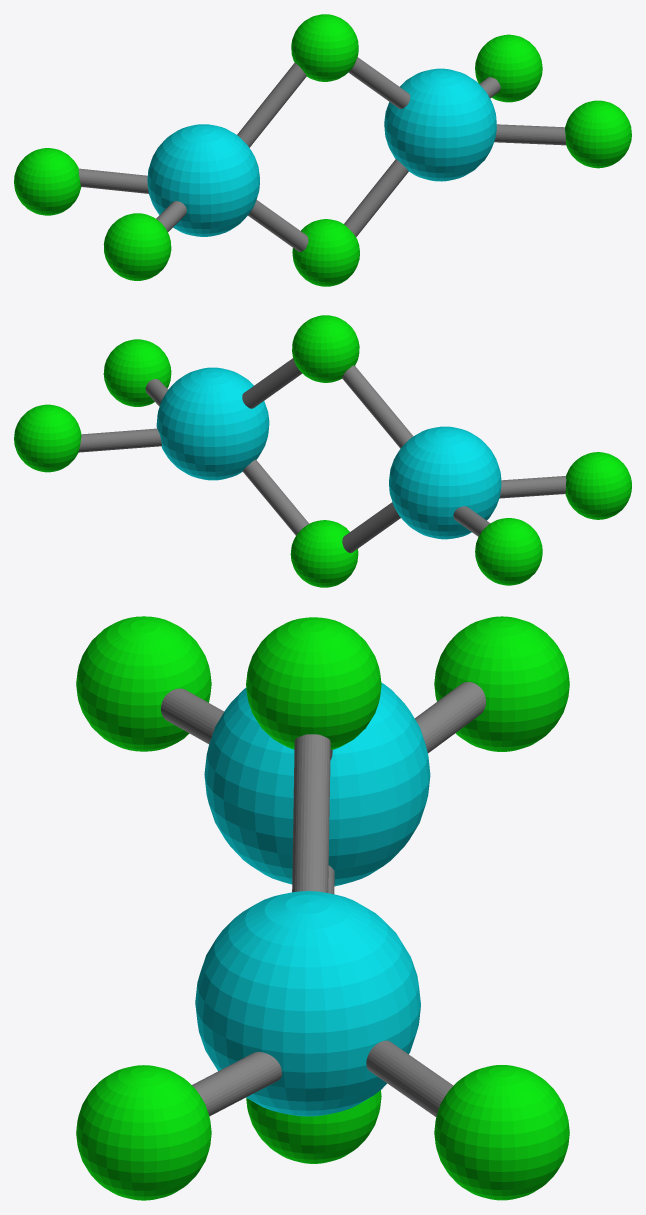
The picture shows the model from 3 angles, top to bottom: view 1: azimuth 30°, elevation 25°; view 2: azimuth 150°, elevation 25°; view 3: azimuth 270°, elevation 25°; orthographic projection. The views are drawn at different scales.
Parts seen in each view (by area): view 1: углерод 1.002, углерод 1, Sphere.001, Sphere.013, Sphere.002, Sphere.004, Sphere.010, Sphere.014, Cylinder.016, Cylinder.019, Cylinder.020, Cylinder.004 (+3 smaller); view 2: углерод 1.002, углерод 1, Sphere.002, Sphere.014, Sphere.001, Sphere.004, Sphere.010, Sphere.013, Cylinder.016, Cylinder.019, Cylinder.021, Cylinder.003 (+3 smaller); view 3: углерод 1.002, углерод 1, Sphere.014, Sphere.013, Sphere.004, Sphere.001, Sphere.002, Cylinder.017, Sphere.010, Cylinder.021, Cylinder.020, Cylinder.004 (+1 smaller).
Boxes of the visible parts, bbox=[...] form: углерод 1.002: bbox=[384, 68, 496, 181]; углерод 1: bbox=[147, 124, 259, 236]; Sphere.001: bbox=[103, 213, 171, 280]; Sphere.013: bbox=[565, 100, 631, 168]; Sphere.002: bbox=[14, 148, 81, 215]; Sphere.004: bbox=[291, 14, 358, 81]; Sphere.010: bbox=[292, 219, 359, 286]; Sphere.014: bbox=[475, 34, 542, 102]; Cylinder.016: bbox=[237, 63, 306, 147]; Cylinder.019: bbox=[344, 159, 408, 236]; Cylinder.020: bbox=[494, 124, 566, 145]; Cylinder.004: bbox=[78, 168, 148, 193]; углерод 1.002: bbox=[156, 367, 269, 480]; углерод 1: bbox=[389, 426, 501, 539]; Sphere.002: bbox=[475, 518, 542, 585]; Sphere.014: bbox=[14, 404, 81, 472]; Sphere.001: bbox=[565, 452, 631, 519]; Sphere.004: bbox=[292, 315, 359, 382]; Sphere.010: bbox=[290, 520, 358, 587]; Sphere.013: bbox=[103, 339, 171, 406]; Cylinder.016: bbox=[342, 365, 413, 448]; Cylinder.019: bbox=[242, 459, 309, 535]; Cylinder.021: bbox=[78, 428, 161, 452]; Cylinder.003: bbox=[499, 476, 566, 498]; углерод 1.002: bbox=[195, 891, 420, 1116]; углерод 1: bbox=[204, 682, 430, 886]; Sphere.014: bbox=[434, 1065, 569, 1200]; Sphere.013: bbox=[76, 1065, 211, 1200]; Sphere.004: bbox=[246, 617, 381, 749]; Sphere.001: bbox=[76, 616, 211, 751]; Sphere.002: bbox=[434, 616, 569, 751]; Cylinder.017: bbox=[292, 734, 330, 892]; Sphere.010: bbox=[246, 1090, 381, 1163]; Cylinder.021: bbox=[366, 1040, 453, 1116]; Cylinder.020: bbox=[192, 1052, 281, 1116]; Cylinder.004: bbox=[415, 682, 485, 753].
Bounding box in the file's own units: 5.31 × 2.6 × 2.18.
